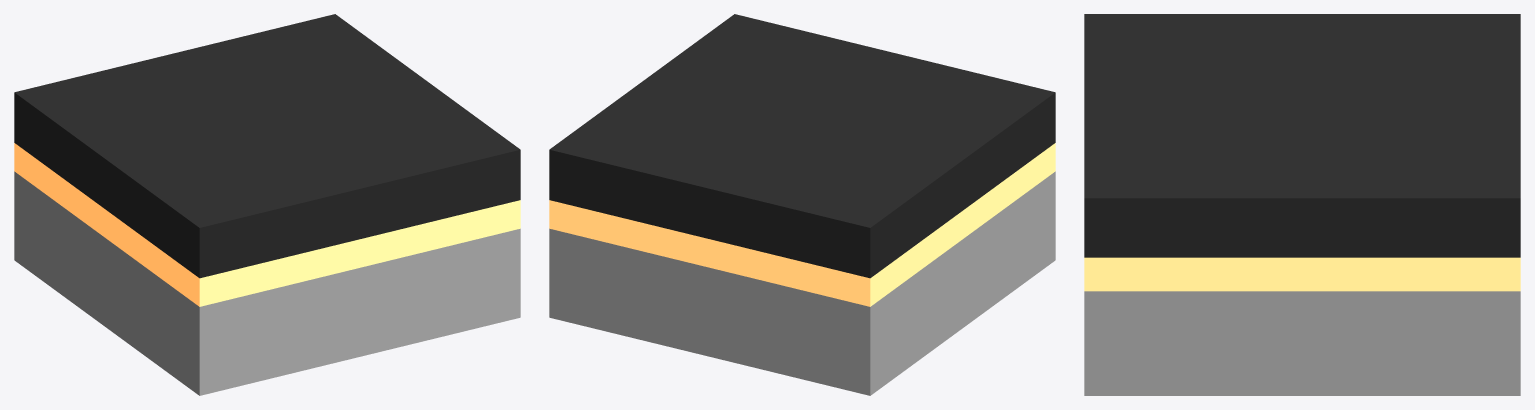
The model's file is tower_platform_one_test.glb.
The picture shows the model from 3 angles, left to right: view 1: azimuth 30°, elevation 25°; view 2: azimuth 150°, elevation 25°; view 3: azimuth 270°, elevation 25°; orthographic projection. The views are drawn at different scales.
Parts seen in each view (by area): view 1: Cube; view 2: Cube; view 3: Cube.
Part boxes in pixels (<box>): Cube: <box>14,14,520,395</box>; Cube: <box>549,14,1055,395</box>; Cube: <box>1084,14,1520,395</box>.
Size of the model in its own units: 2 by 1 by 2.
